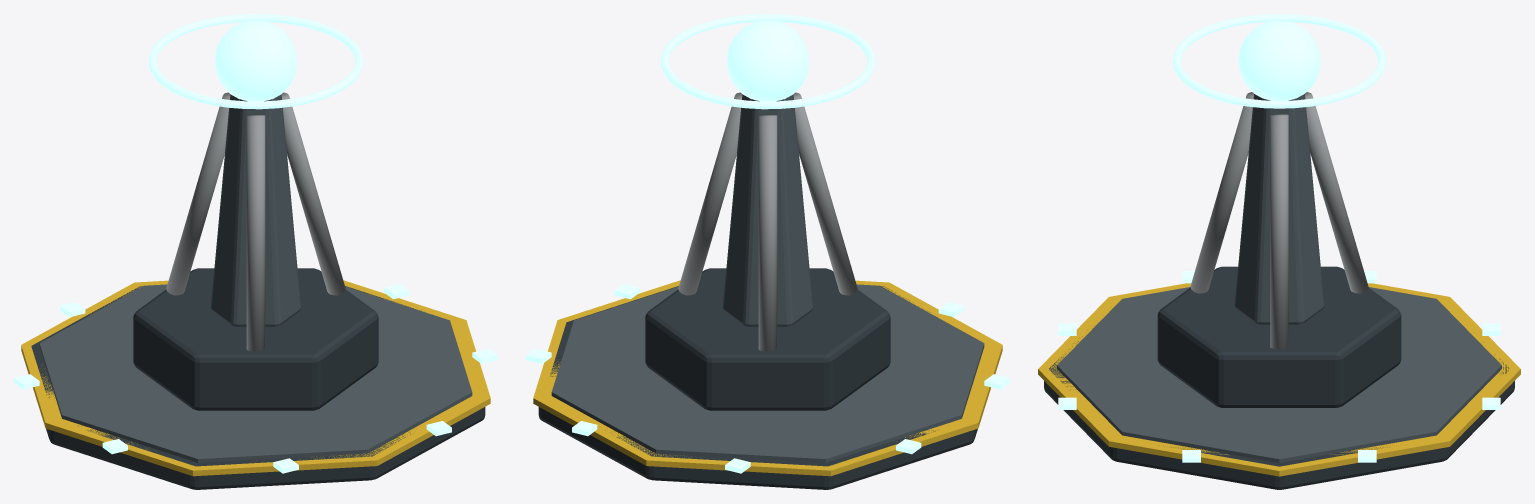
Rendered from shield_generator.fbx.
The picture shows the model from 3 angles, left to right: view 1: azimuth 30°, elevation 25°; view 2: azimuth 150°, elevation 25°; view 3: azimuth 270°, elevation 25°; orthographic projection.
Parts seen in each view (by area): view 1: shield_generator, ANIM_pulse_1.2__orb, ANIM_spin_x_25__halo; view 2: shield_generator, ANIM_pulse_1.2__orb, ANIM_spin_x_25__halo; view 3: shield_generator, ANIM_pulse_1.2__orb, ANIM_spin_x_25__halo.
Part boxes in pixels (x1,y1,x2,y2): shield_generator: (14, 92, 497, 489); ANIM_pulse_1.2__orb: (214, 20, 297, 101); ANIM_spin_x_25__halo: (148, 14, 363, 109); shield_generator: (526, 92, 1009, 489); ANIM_pulse_1.2__orb: (726, 20, 809, 101); ANIM_spin_x_25__halo: (660, 14, 875, 109); shield_generator: (1038, 92, 1520, 489); ANIM_pulse_1.2__orb: (1238, 20, 1320, 100); ANIM_spin_x_25__halo: (1172, 14, 1386, 108).
Size of the model in its own units: 4.69 by 3.95 by 4.69.
